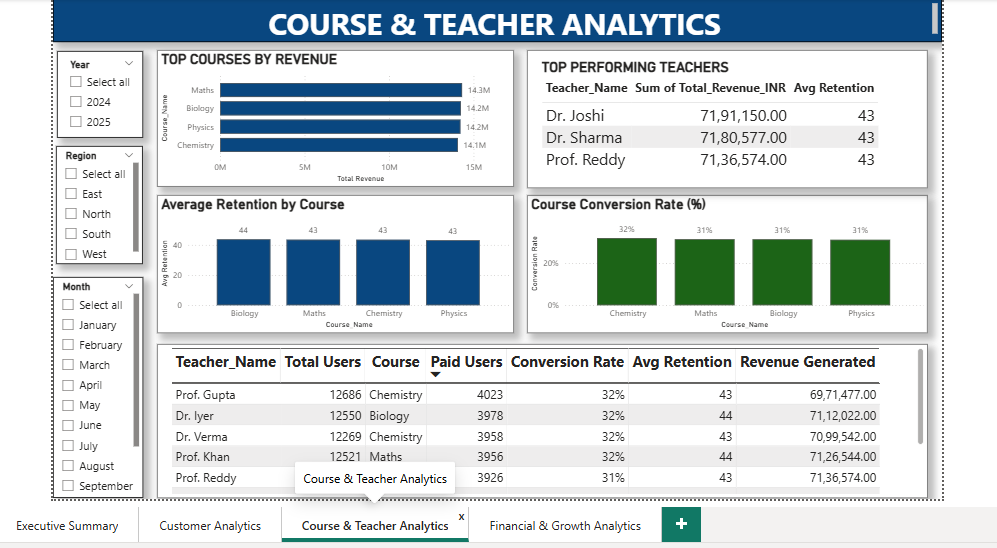

What the dashboard file says about the page in this screenshot:
{"tool":"powerbi","page":{"name":"Course & Teacher Analytics ","canvas":[1280,720],"ordinal":2},"visuals":[{"type":"textbox","box":[0,0,1280,61.6],"z":0},{"type":"clusteredBarChart","title":"TOP COURSES BY REVENUE","fields":{"Category":["Courses.Course_Name"],"Y":["Subscriptions.Total Revenue"]},"box":[149.8,73.4,514.1,197.3],"z":1000},{"type":"clusteredColumnChart","title":"Average Retention by Course","fields":{"Category":["Courses.Course_Name"],"Y":["Subscriptions.Avg Retention"]},"box":[149.8,282.2,514.1,198.7],"z":2000},{"type":"clusteredColumnChart","title":"Course Conversion Rate (%)","fields":{"Category":["Courses.Course_Name"],"Y":["Subscriptions.Conversion Rate"]},"box":[682.6,282.2,577.4,198.7],"z":3000},{"type":"pivotTable","fields":{"Rows":["Courses.Teacher_Name"],"Values":["Subscriptions.Total Users","Min(Courses.Course_Name)","Subscriptions.Paid Users","Subscriptions.Conversion Rate","Subscriptions.Avg Retention","Sum(Subscriptions.Total_Revenue_INR)"]},"box":[149.8,496.8,1110.2,221.8],"z":4000},{"type":"tableEx","title":"TOP PERFORMING TEACHERS","fields":{"Values":["Courses.Teacher_Name","Sum(Subscriptions.Total_Revenue_INR)","Subscriptions.Avg Retention"]},"box":[682.6,73.4,577.4,198.7],"z":5000},{"type":"slicer","fields":{"Values":["Subscriptions.Signup_Year"]},"box":[5.8,74.9,123.8,125.3],"z":6000},{"type":"slicer","fields":{"Values":["Subscriptions.Region"]},"box":[4.3,211.7,125.3,169.9],"z":7000},{"type":"slicer","fields":{"Values":["Subscriptions.Signup_Month"]},"box":[0,400.3,129.6,318.2],"z":8000}]}

Visuals, with their boxes on the page's 1280x720 design canvas (x1, y1, x2, y2). These are canvas units, not pixel positions in the 997x548 screenshot, which may show the page scaled, cropped or inside an application window:
textbox: [0,0,1280,62]
"TOP COURSES BY REVENUE" clusteredBarChart: [150,73,664,271]
"Average Retention by Course" clusteredColumnChart: [150,282,664,481]
"Course Conversion Rate (%)" clusteredColumnChart: [683,282,1260,481]
pivotTable - Courses.Teacher_Name x Subscriptions.Total Users: [150,497,1260,719]
"TOP PERFORMING TEACHERS" tableEx: [683,73,1260,272]
slicer - Subscriptions.Signup_Year: [6,75,130,200]
slicer - Subscriptions.Region: [4,212,130,382]
slicer - Subscriptions.Signup_Month: [0,400,130,718]
